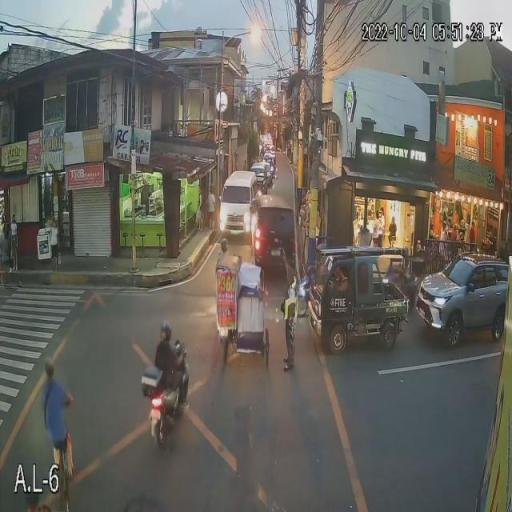helmet: (157, 319, 178, 341)
motorcycle: (140, 337, 192, 454)
rider: (151, 342, 188, 412)
